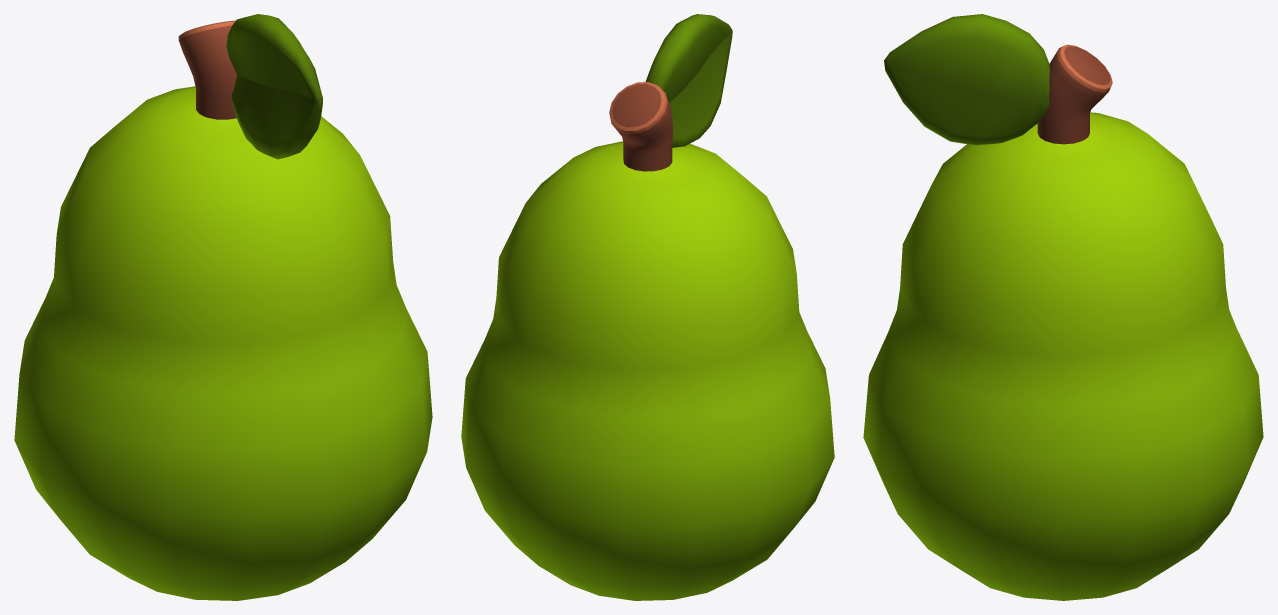
The model's file is Pear_V1_00.fbx.
The picture shows the model from 3 angles, left to right: view 1: azimuth 30°, elevation 25°; view 2: azimuth 150°, elevation 25°; view 3: azimuth 270°, elevation 25°; orthographic projection. The views are drawn at different scales.
Visible parts, largest first — view 1: Pear_V1_00; view 2: Pear_V1_00; view 3: Pear_V1_00.
Part boxes in pixels (left/top/right/bottom): Pear_V1_00: left=14, top=14, right=432, bottom=600; Pear_V1_00: left=461, top=14, right=834, bottom=600; Pear_V1_00: left=863, top=14, right=1263, bottom=600.
Bounding box in the file's own units: 25.83 × 40.43 × 25.83.
